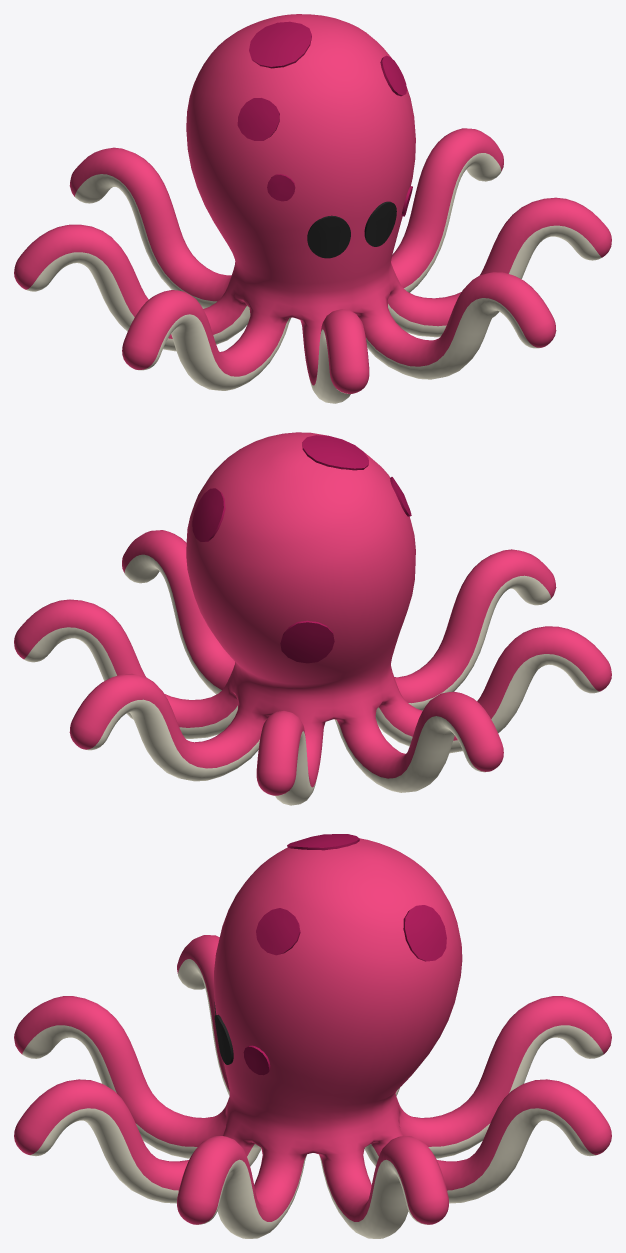
File: octopus.glb
3 views of the same model, one above another, from view 1: azimuth 30°, elevation 25°; view 2: azimuth 150°, elevation 25°; view 3: azimuth 270°, elevation 25° (orthographic). The views are drawn at different scales.
Parts seen in each view (by area): view 1: Circle.1984, Plane.172, Circle.1985; view 2: Circle.1984, Plane.172; view 3: Circle.1984, Plane.172, Circle.1985.
Boxes of the visible parts, box(x1,y1,x2,y2) form: Circle.1984: box(14, 14, 611, 403); Plane.172: box(237, 21, 412, 216); Circle.1985: box(307, 201, 396, 258); Circle.1984: box(14, 432, 611, 805); Plane.172: box(192, 435, 411, 663); Circle.1984: box(14, 838, 611, 1238); Plane.172: box(243, 834, 446, 1075); Circle.1985: box(214, 1002, 233, 1064).
Bounding box in the file's own units: 2.22 × 1.36 × 2.22.
Materials: 1 (1 with a texture image).
